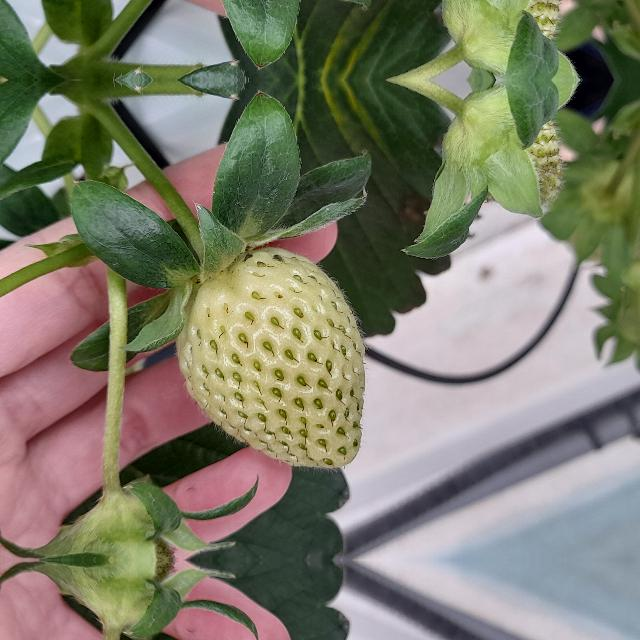Health_25: (175, 247, 365, 468)
